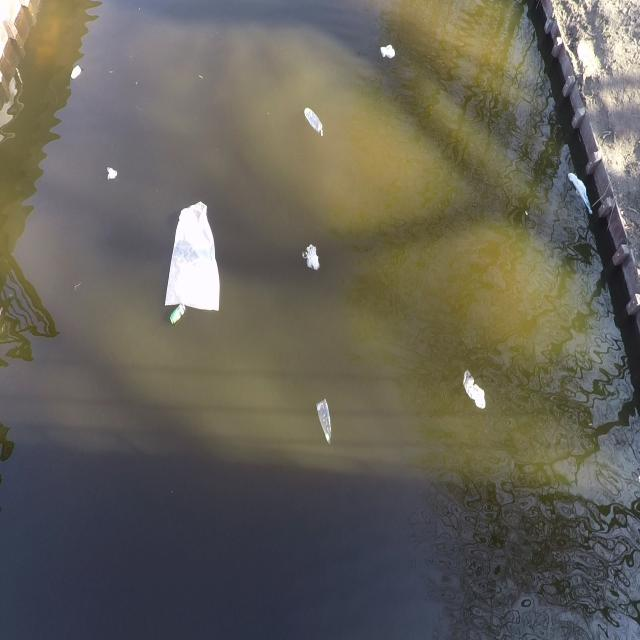Non plastique: (164, 305, 191, 333)
Sac plastique: (154, 186, 227, 329), (563, 167, 594, 222), (459, 365, 491, 413), (312, 386, 336, 446), (296, 232, 326, 278), (301, 100, 326, 141), (376, 40, 400, 63)
